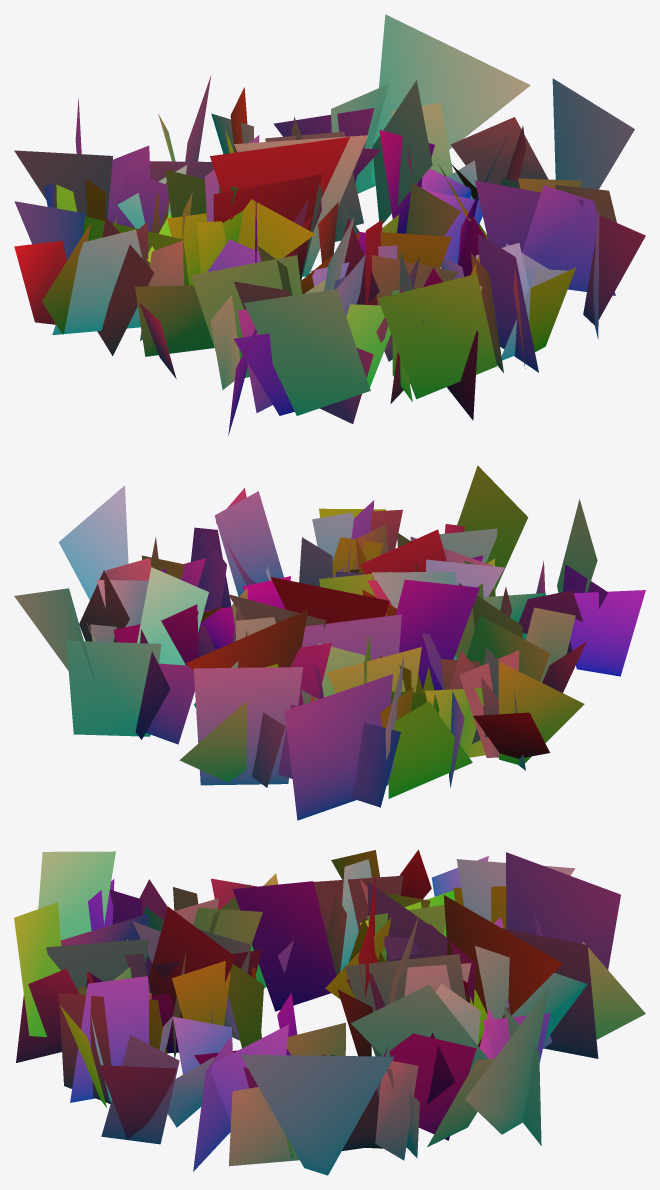
The model's file is Grass_Clumps_rbojr_Mid_rbojr_VarC_LOD1.fbx.
3 views of the same model, one above another, from view 1: azimuth 30°, elevation 25°; view 2: azimuth 150°, elevation 25°; view 3: azimuth 270°, elevation 25° (orthographic). The views are drawn at different scales.
Parts seen in each view (by area): view 1: _b623_VarC_LOD2; view 2: _b623_VarC_LOD2; view 3: _b623_VarC_LOD2.
Boxes of the visible parts, bbox=[...] form: _b623_VarC_LOD2: bbox=[14, 14, 645, 435]; _b623_VarC_LOD2: bbox=[14, 465, 645, 820]; _b623_VarC_LOD2: bbox=[14, 849, 645, 1175].
Bounding box in the file's own units: 86.51 × 26.3 × 85.43.
